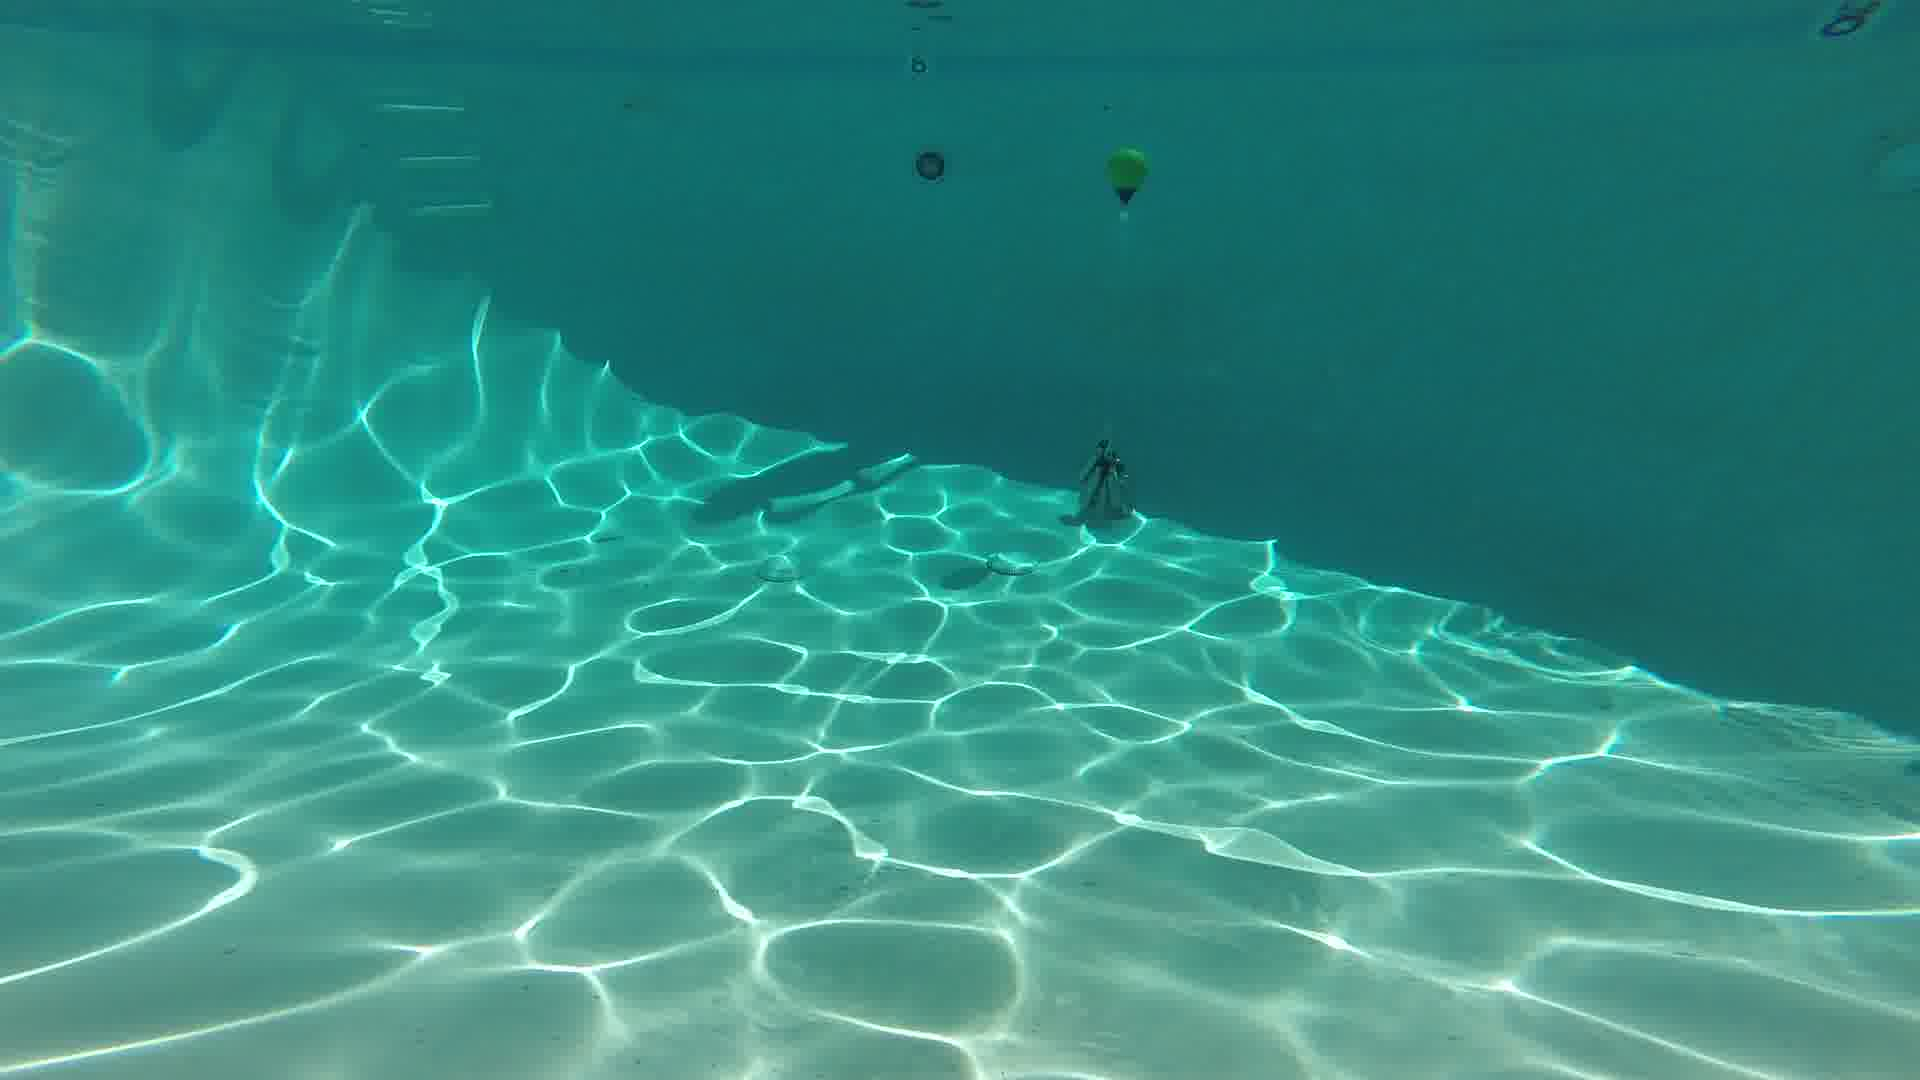yellow_buoy: (1109, 146, 1146, 204)
